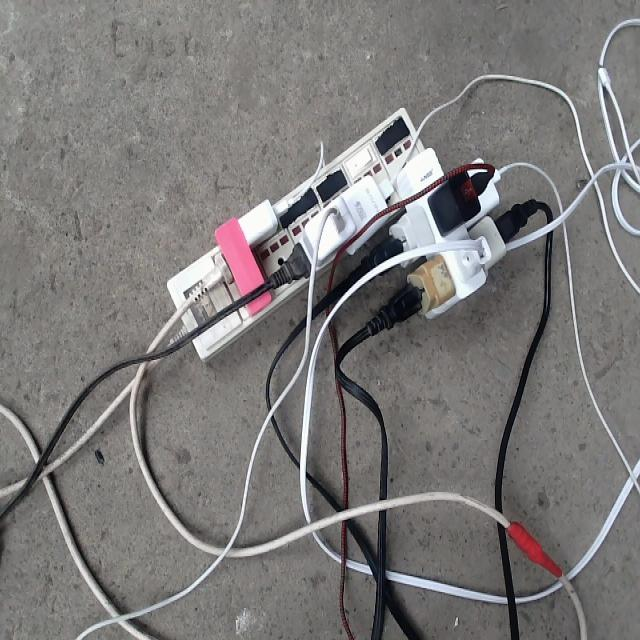-: (165, 103, 534, 369)
